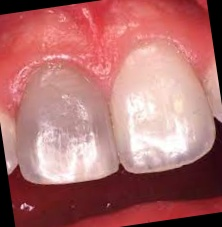Tooth Discoloration: (6, 50, 119, 162)
